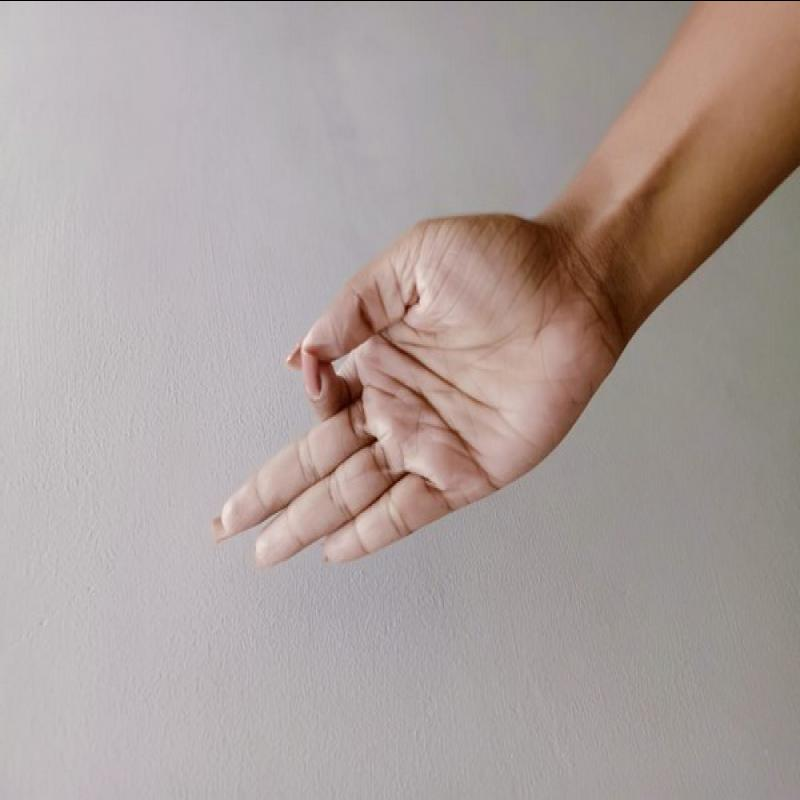Mudraakhyam: (181, 198, 610, 574)
